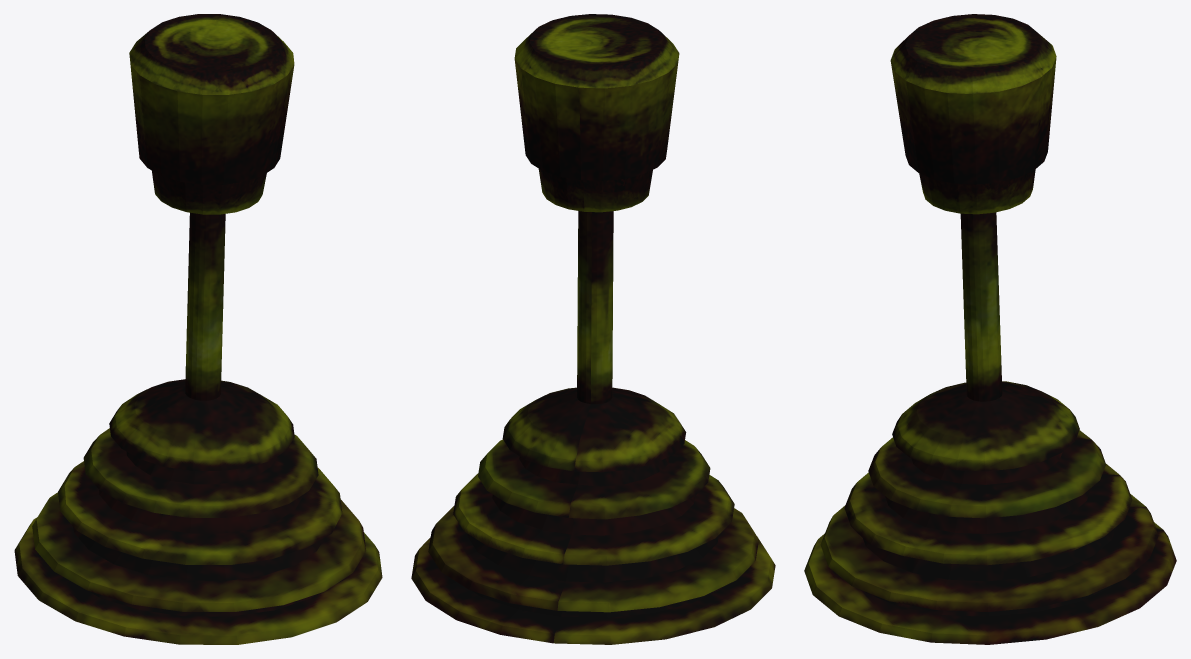
File: Lever Trigger Model.fbx
3 renders of one model, left to right at view 1: azimuth 30°, elevation 25°; view 2: azimuth 150°, elevation 25°; view 3: azimuth 270°, elevation 25°, orthographic.
Visible parts, largest first — view 1: Lever; view 2: Lever; view 3: Lever.
Part boxes in pixels (left/top/right/bottom): Lever: left=14, top=14, right=382, bottom=644; Lever: left=411, top=14, right=775, bottom=644; Lever: left=804, top=14, right=1176, bottom=644.
Bounding box in the file's own units: 3.59 × 5.75 × 3.65.
